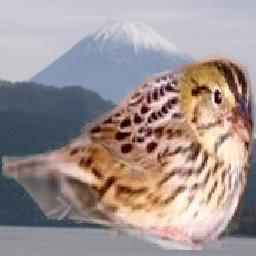Sparrow: (2, 54, 254, 250)
